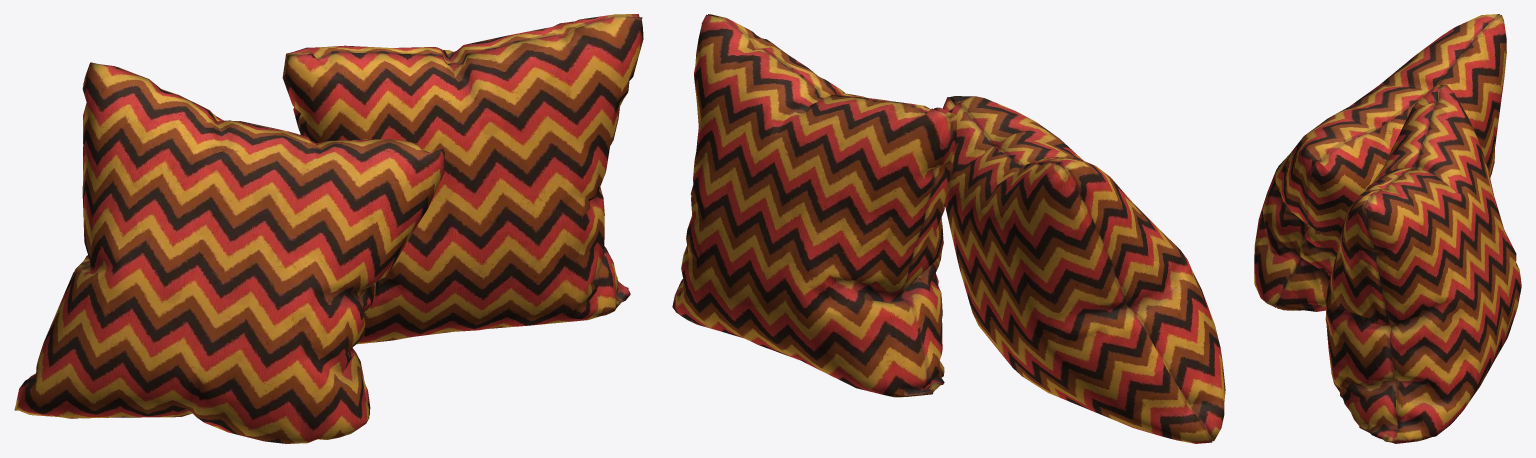
The model's file is throw_pillows_01.glb.
3 renders of one model, left to right at view 1: azimuth 30°, elevation 25°; view 2: azimuth 150°, elevation 25°; view 3: azimuth 270°, elevation 25°, orthographic. The views are drawn at different scales.
Parts seen in each view (by area): view 1: throw_pillows_01_pillow02; view 2: throw_pillows_01_pillow02; view 3: throw_pillows_01_pillow02.
Boxes of the visible parts, x1,y1,x2,y2 form: throw_pillows_01_pillow02: (14,14,643,443); throw_pillows_01_pillow02: (672,14,1225,443); throw_pillows_01_pillow02: (1254,14,1521,443).
Size of the model in its own units: 0.9398 by 0.4501 by 0.4503.
1 material, 1 textured.
